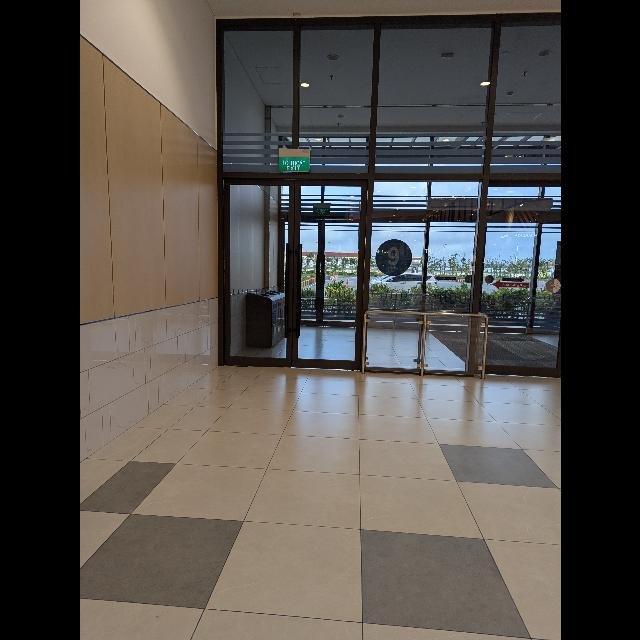exit: (278, 157, 309, 172)
